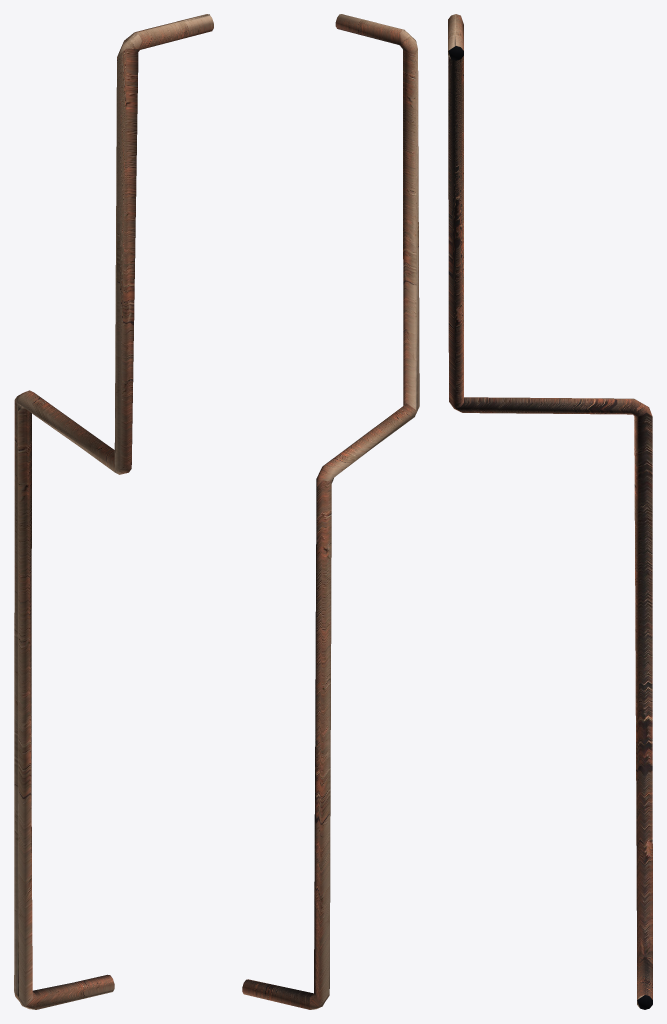
File: wallPipe5_100.fbx
The picture shows the model from 3 angles, left to right: view 1: azimuth 30°, elevation 25°; view 2: azimuth 150°, elevation 25°; view 3: azimuth 270°, elevation 25°; orthographic projection. The views are drawn at different scales.
Parts seen in each view (by area): view 1: pipeD200; view 2: pipeD200; view 3: pipeD200.
Boxes of the visible parts, x1,y1,x2,y2 form: pipeD200: [14, 14, 213, 1009]; pipeD200: [242, 14, 419, 1009]; pipeD200: [448, 14, 652, 1009].
Bounding box in the file's own units: 0.5611 × 5.87 × 1.13.
